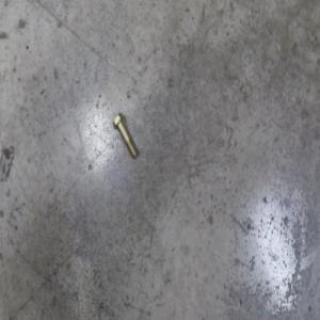Bolttrack_idkeyframe: (114, 112, 138, 160)
